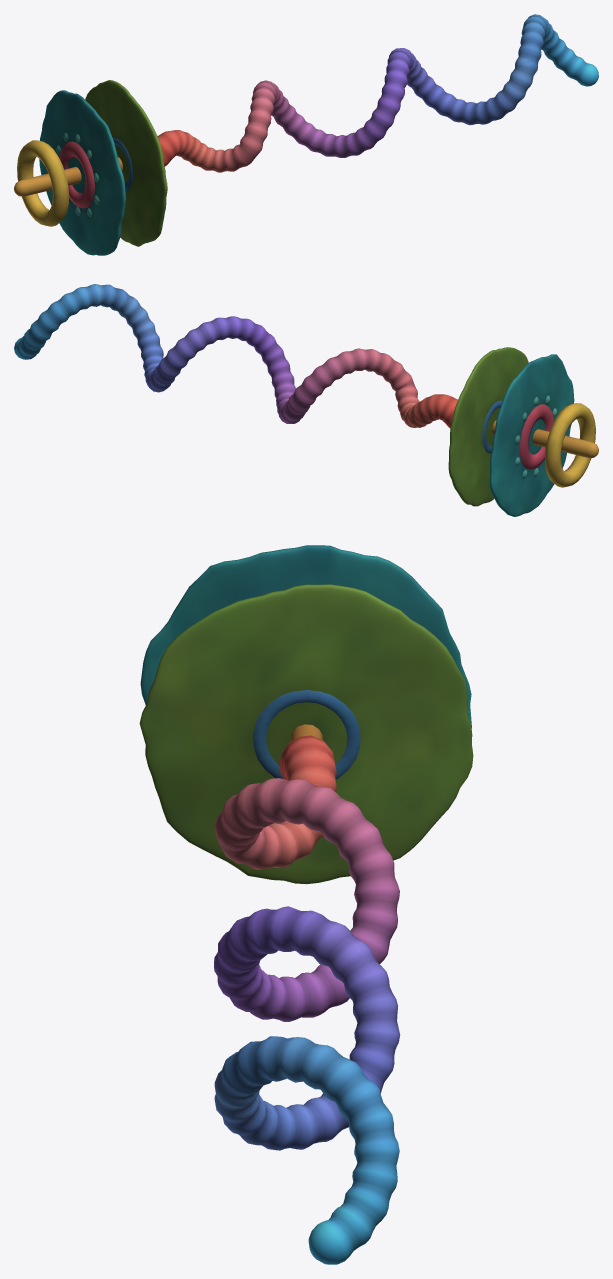
File: flagellum.glb
The picture shows the model from 3 angles, top to bottom: view 1: azimuth 30°, elevation 25°; view 2: azimuth 150°, elevation 25°; view 3: azimuth 270°, elevation 25°; orthographic projection. The views are drawn at different scales.
Parts seen in each view (by area): view 1: flagellum-filament, flagellum-envelope, flagellum-motor; view 2: flagellum-filament, flagellum-envelope, flagellum-motor; view 3: flagellum-envelope, flagellum-filament, flagellum-motor.
Boxes of the visible parts, <box> form: flagellum-filament: <box>157,14,598,172</box>; flagellum-envelope: <box>39,80,167,255</box>; flagellum-motor: <box>14,132,132,226</box>; flagellum-filament: <box>14,284,457,427</box>; flagellum-envelope: <box>448,347,574,516</box>; flagellum-motor: <box>482,395,598,487</box>; flagellum-envelope: <box>139,545,473,884</box>; flagellum-filament: <box>214,735,400,1264</box>; flagellum-motor: <box>253,690,360,779</box>.
Size of what is drawn, in the model's own units: 5.67 by 1.4 by 1.42.
